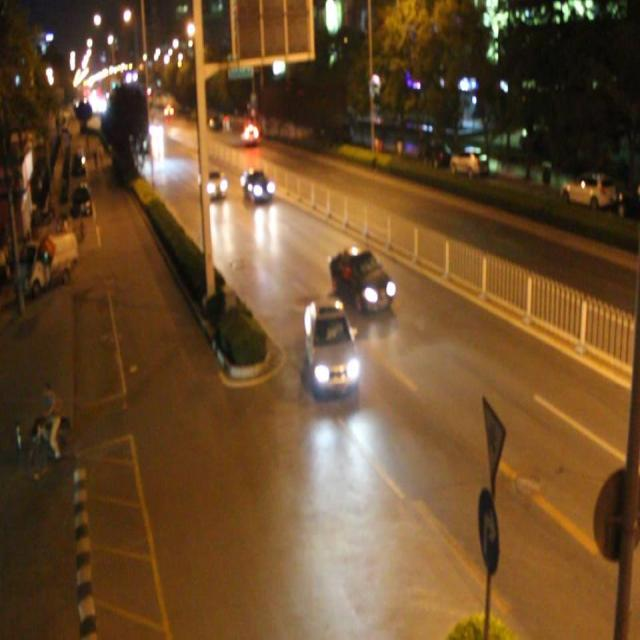car: (302, 297, 358, 394), (328, 241, 394, 315), (239, 168, 275, 206), (198, 169, 226, 201), (240, 120, 260, 147)
